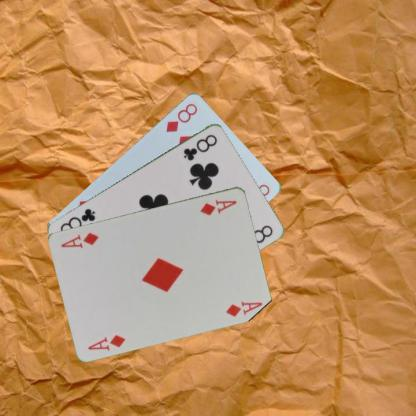8c: (181, 131, 219, 162)
8d: (163, 100, 200, 133)
Ad: (198, 196, 238, 216), (85, 332, 127, 351)
